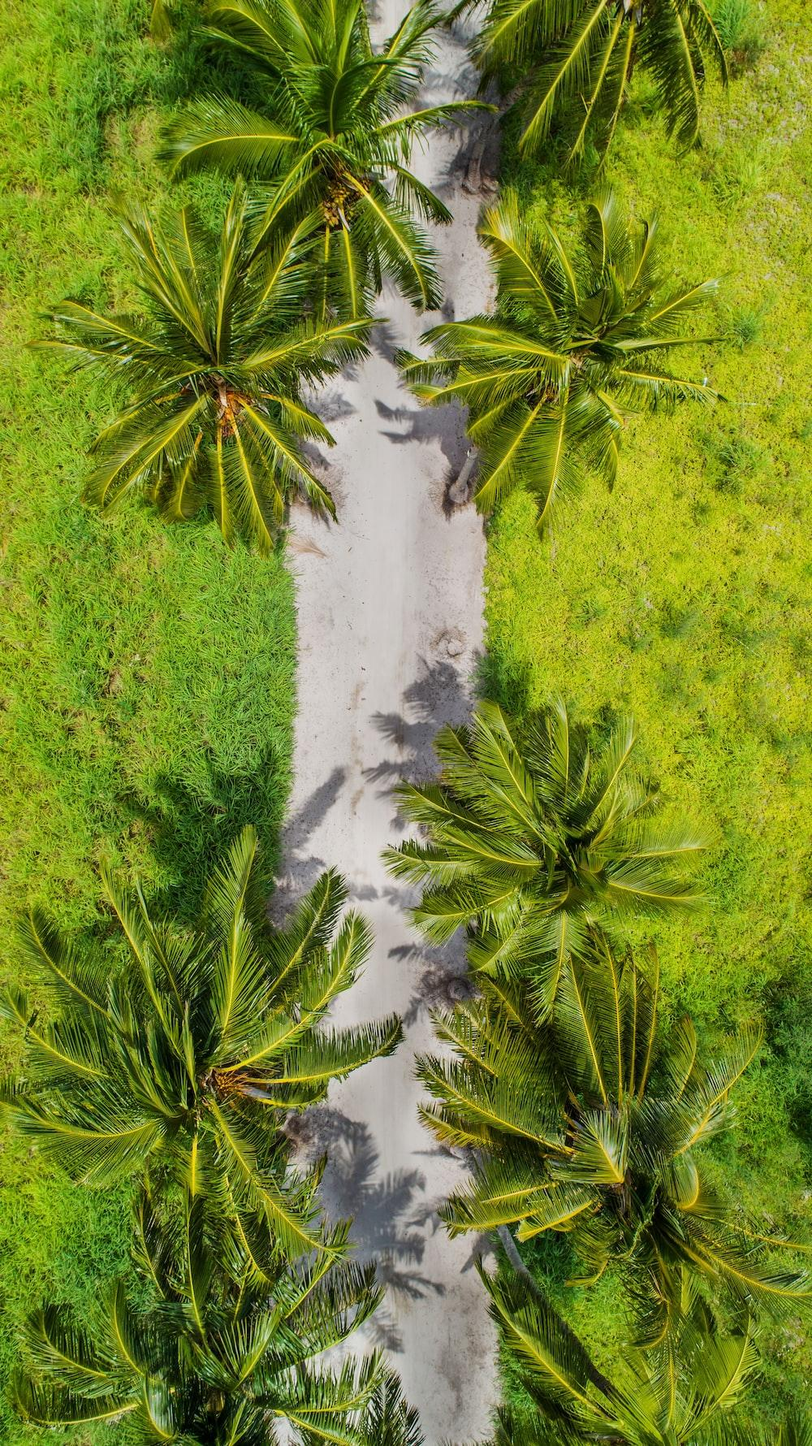coconut_tree: (14, 866, 424, 1254), (424, 947, 774, 1327), (67, 180, 406, 550), (379, 656, 733, 990), (410, 189, 745, 537)
